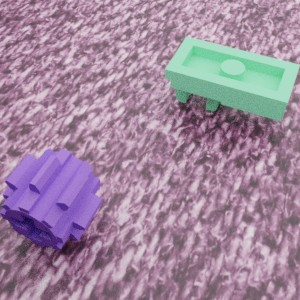lego: (164, 36, 299, 121), (0, 147, 102, 249)
